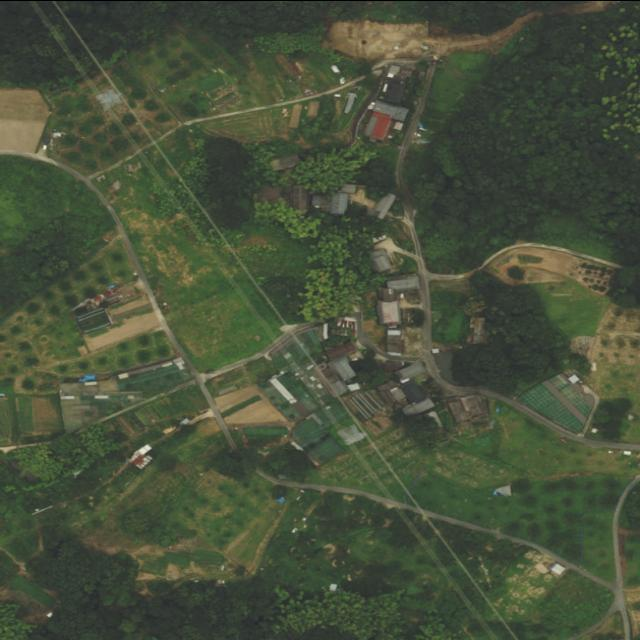landslide: (327, 0, 617, 58), (486, 245, 616, 294)
